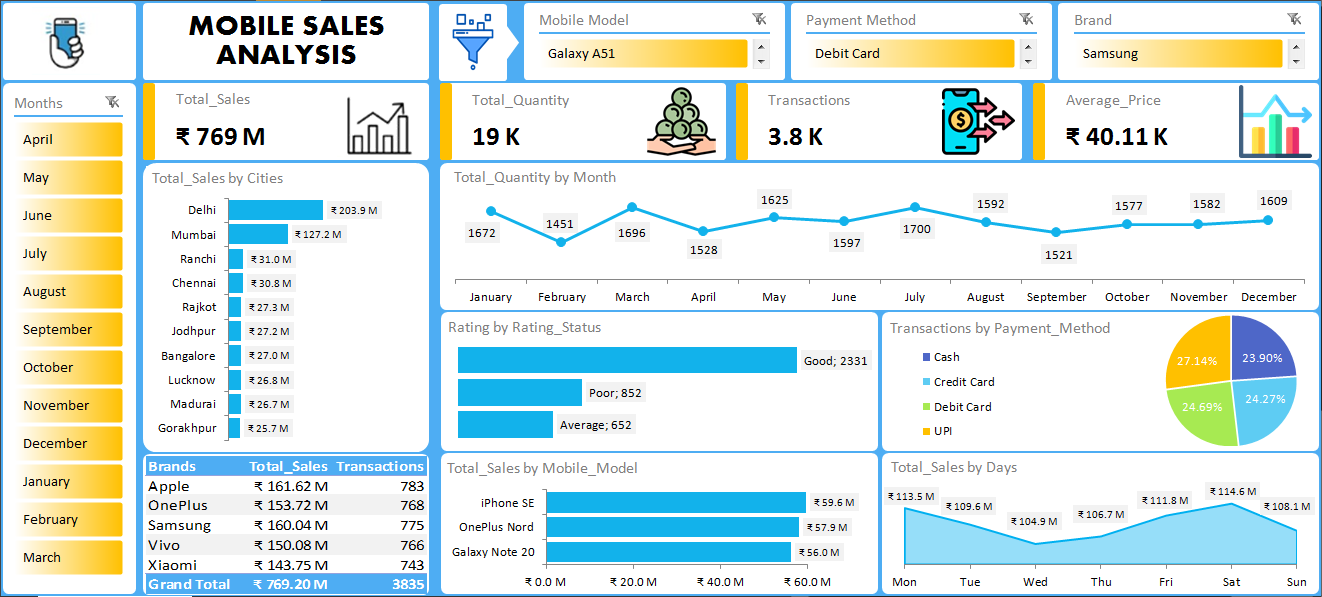

This screenshot's page, from the dashboard's own definition file:
{"tool":"powerbi","page":{"name":"Mobile Sales Analysis","canvas":[3300,1800],"ordinal":0},"visuals":[{"type":"card","title":"Total_Sales","fields":{"Values":["Mobile Sales Analysis.Total_Sales"]},"box":[394.6,248.5,370.3,233.9],"z":0},{"type":"card","title":"Total_Quantity","fields":{"Values":["Mobile Sales Analysis.Total_Quantity"]},"box":[1154.7,248.5,370.3,233.9],"z":1000},{"type":"card","title":"Transactions","fields":{"Values":["Mobile Sales Analysis.Transactions"]},"box":[1895.2,248.5,370.3,233.9],"z":2000},{"type":"card","title":"Average_Price","fields":{"Values":["Mobile Sales Analysis.Average_Price"]},"box":[2626.1,248.5,370.3,233.9],"z":3000},{"type":"map","title":"Total_Sales by Cities","fields":{"Category":["Mobile Sales Analysis.City"],"Size":["Mobile Sales Analysis.Total_Sales"]},"box":[350.8,482.3,740.6,867.2],"z":4000},{"type":"lineChart","title":"Total_Quantity Sold by Months","fields":{"Y":["Mobile Sales Analysis.Total_Quantity"],"Category":["Mobile Sales Analysis.Date.Variation.Date Hierarchy.Month"]},"box":[1117.4,481.2,2179.1,457.3],"z":5000},{"type":"clusteredBarChart","title":"Rating by Rating_Status","fields":{"Category":["Mobile Sales Analysis.Rating Status"],"Y":["CountNonNull(Mobile Sales Analysis.Rating Status)"]},"box":[1115.7,940.3,1091.3,409.3],"z":6000},{"type":"pieChart","title":"Transaction by Payment_Method","fields":{"Category":["Mobile Sales Analysis.Payment Method"],"Y":["CountNonNull(Mobile Sales Analysis.Transaction ID)"]},"box":[2207.1,940.3,1091.3,409.3],"z":7000},{"type":"clusteredBarChart","title":"Total_Sales by Mobile_Model","fields":{"Category":["Mobile Sales Analysis.Mobile Model"],"Y":["Mobile Sales Analysis.Total_Sales"]},"box":[1115.7,1349.6,1091.3,448.2],"z":8000},{"type":"areaChart","title":"Total_Sales by Days","fields":{"Category":["Mobile Sales Analysis.Day_Name"],"Y":["Mobile Sales Analysis.Total_Sales"]},"box":[2207.1,1349.6,1091.3,448.2],"z":9000},{"type":"tableEx","title":"Brand Sales & Transactions Table","fields":{"Values":["Mobile Sales Analysis.Brand","Mobile Sales Analysis.Total_Sales","CountNonNull(Mobile Sales Analysis.Transaction ID)"]},"box":[349.9,1352,739.6,445.4],"z":10000},{"type":"image","box":[15.9,15.9,314.1,218.7],"z":11000},{"type":"image","box":[1117.4,19.9,163,218.7],"z":12000},{"type":"textbox","box":[377.8,19.9,680,214.7],"z":13000},{"type":"image","box":[1531,258.5,274.4,218.7],"z":14000},{"type":"image","box":[2270.6,258.5,262.5,222.7],"z":15000},{"type":"advancedSlicerVisual","title":"Months","fields":{"Values":["Mobile Sales Analysis.Month Name"]},"box":[15.9,258.5,314.1,1499.2],"z":16000},{"type":"advancedSlicerVisual","title":"Mobile Model","fields":{"Values":["Mobile Sales Analysis.Mobile Model"]},"box":[1356,19.9,592.5,214.7],"z":17000},{"type":"advancedSlicerVisual","title":"Payment Method","fields":{"Values":["Mobile Sales Analysis.Payment Method"]},"box":[1976.3,19.9,592.5,214.7],"z":18000},{"type":"advancedSlicerVisual","title":"Brands","fields":{"Values":["Mobile Sales Analysis.Brand"]},"box":[2624.5,19.9,592.5,214.7],"z":19000},{"type":"image","box":[3026.1,274.4,246.5,190.9],"z":19001},{"type":"image","box":[765,248,293,234],"z":19002}]}

Visuals, with their boxes on the page's 3300x1800 design canvas (x1, y1, x2, y2). These are canvas units, not pixel positions in the 1322x597 screenshot, which may show the page scaled, cropped or inside an application window:
"Total_Sales" card: 395 248 765 482
"Total_Quantity" card: 1155 248 1525 482
"Transactions" card: 1895 248 2266 482
"Average_Price" card: 2626 248 2996 482
"Total_Sales by Cities" map: 351 482 1091 1350
"Total_Quantity Sold by Months" lineChart: 1117 481 3296 938
"Rating by Rating_Status" clusteredBarChart: 1116 940 2207 1350
"Transaction by Payment_Method" pieChart: 2207 940 3298 1350
"Total_Sales by Mobile_Model" clusteredBarChart: 1116 1350 2207 1798
"Total_Sales by Days" areaChart: 2207 1350 3298 1798
"Brand Sales & Transactions Table" tableEx: 350 1352 1090 1797
image: 16 16 330 235
image: 1117 20 1280 239
textbox: 378 20 1058 235
image: 1531 258 1805 477
image: 2271 258 2533 481
"Months" advancedSlicerVisual: 16 258 330 1758
"Mobile Model" advancedSlicerVisual: 1356 20 1948 235
"Payment Method" advancedSlicerVisual: 1976 20 2569 235
"Brands" advancedSlicerVisual: 2624 20 3217 235
image: 3026 274 3273 465
image: 765 248 1058 482
